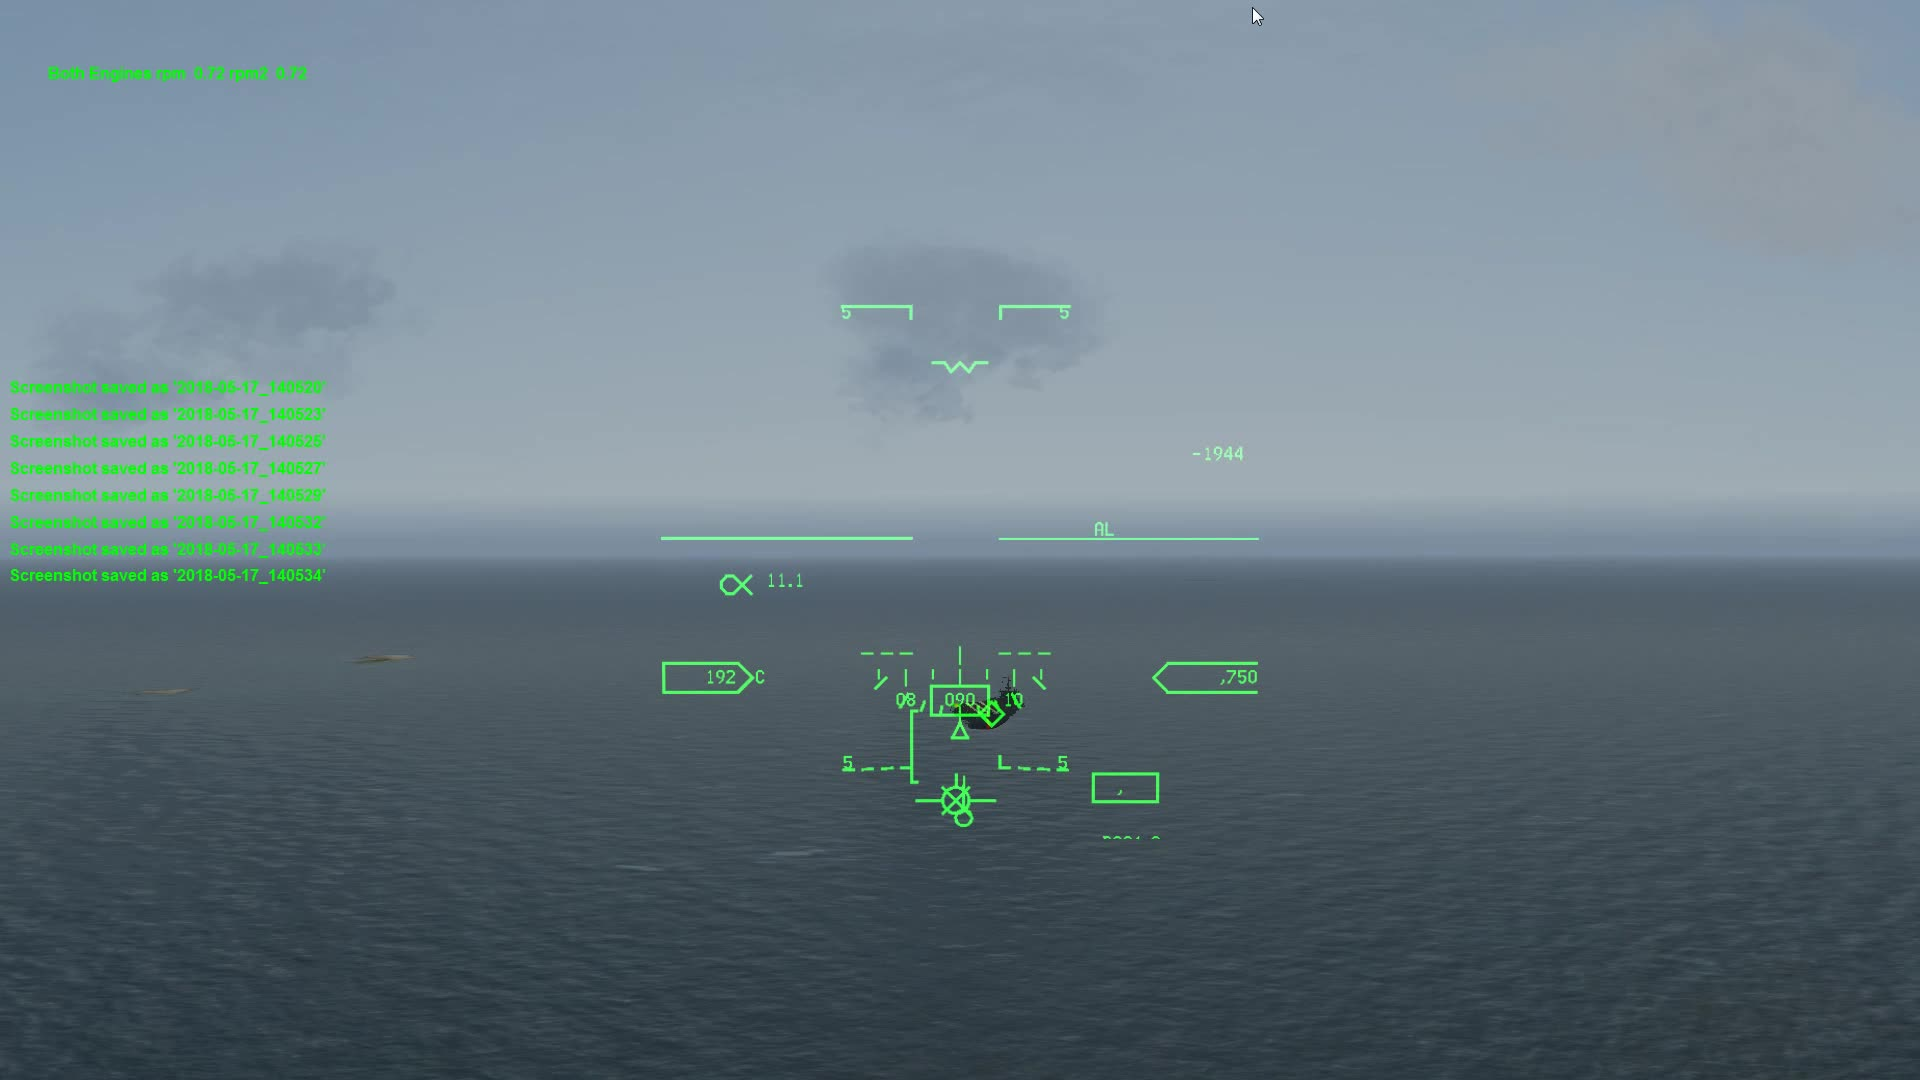speed vector: (920, 764, 1000, 824)
